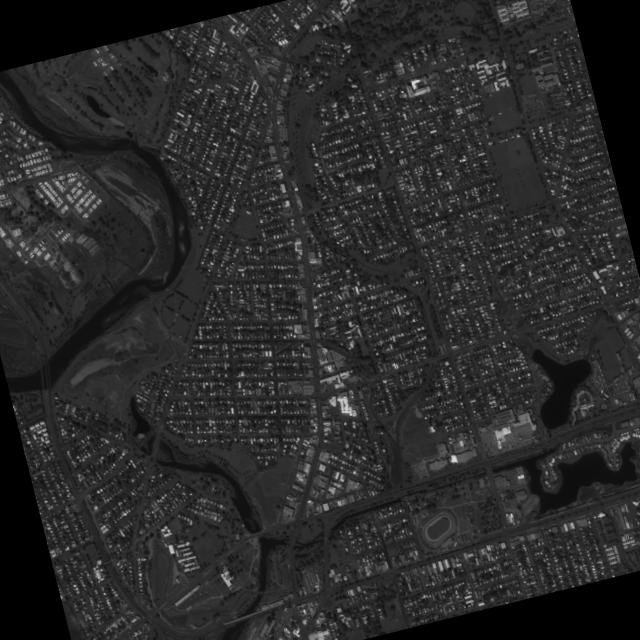storage-tank: (591, 513, 596, 518)
